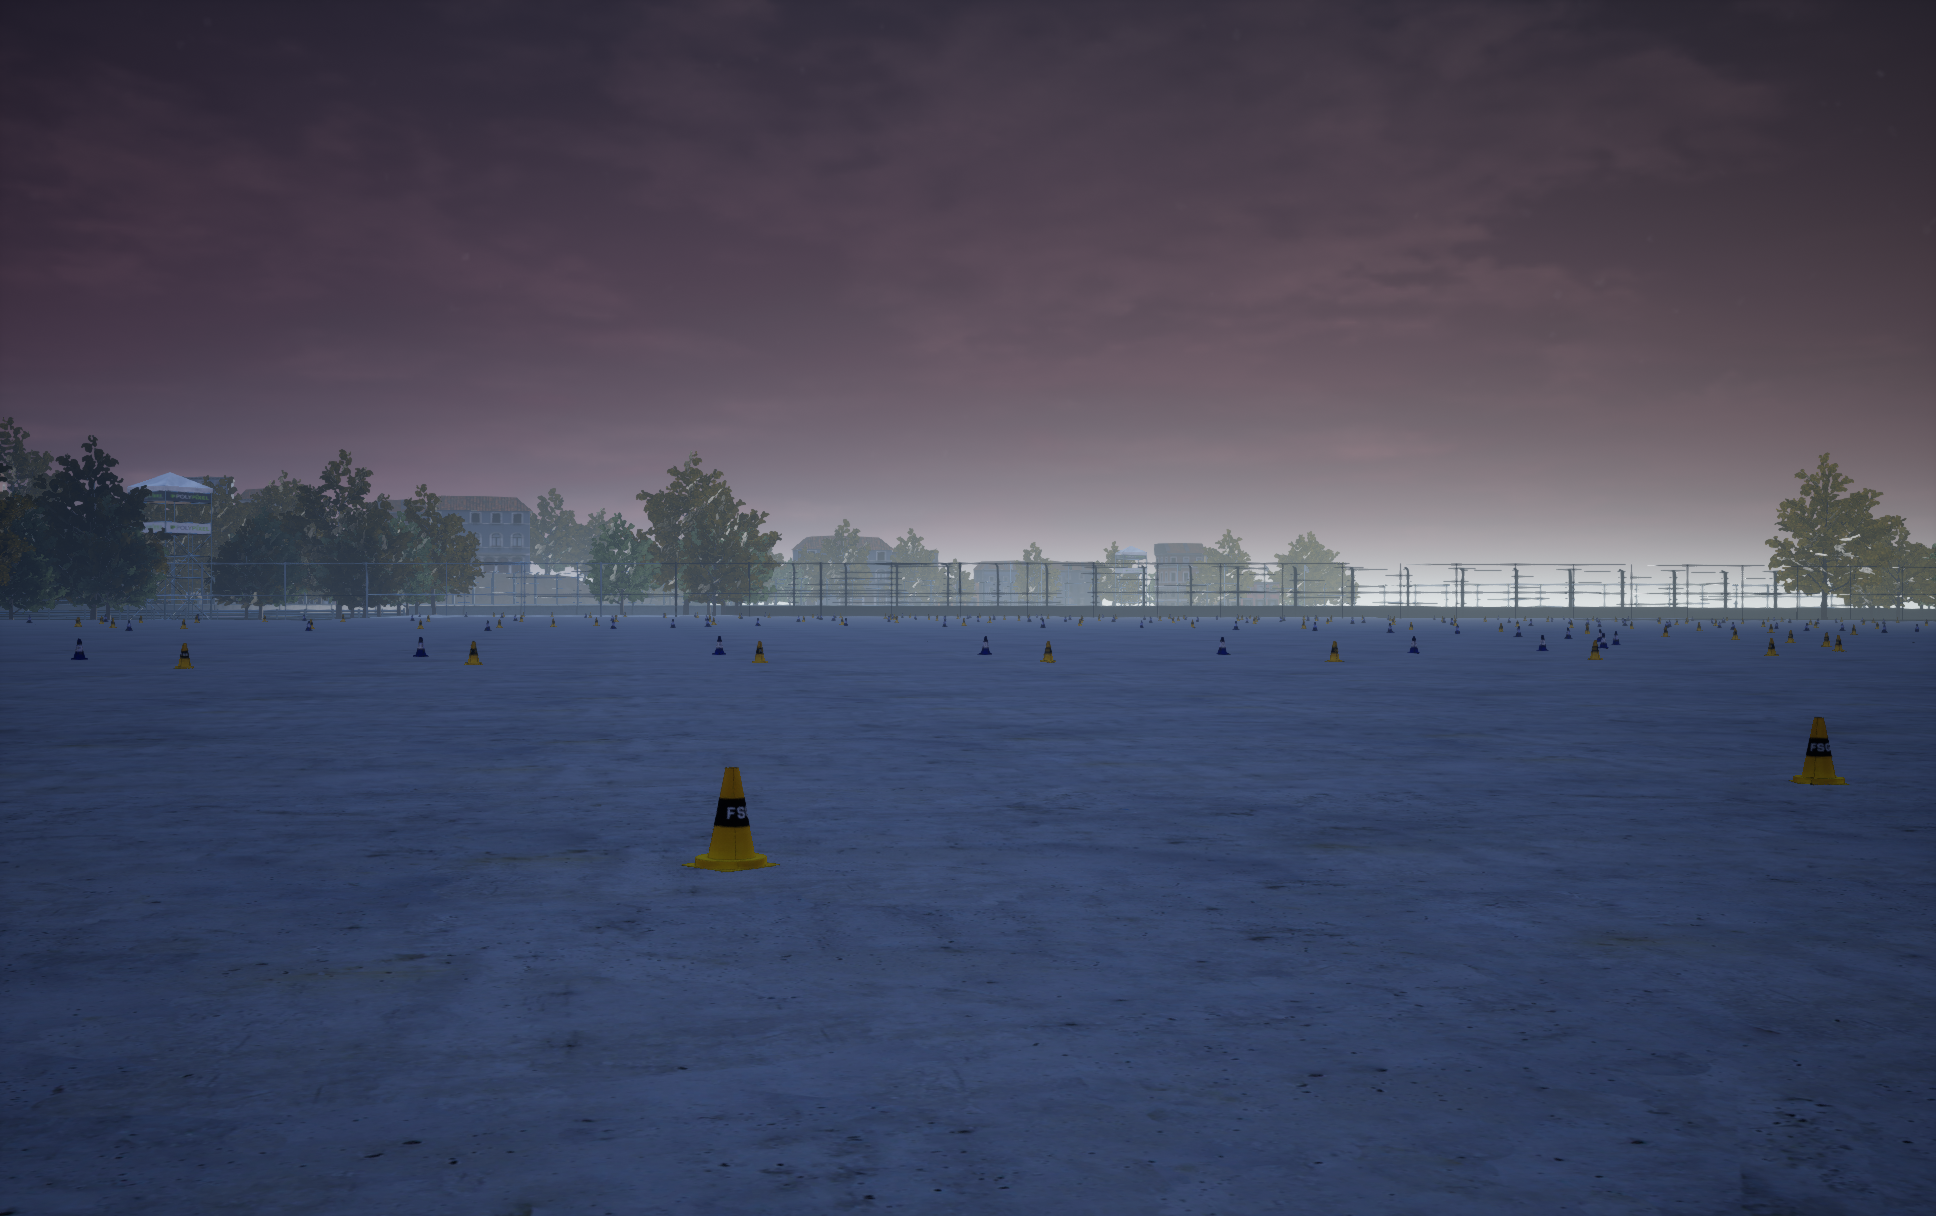blue: (681, 766, 779, 871), (1788, 717, 1849, 785), (172, 643, 193, 668), (464, 642, 482, 664), (1324, 642, 1343, 661), (752, 642, 768, 663), (1039, 642, 1055, 663), (1587, 640, 1603, 658)
yellow: (71, 637, 87, 658), (413, 637, 429, 656), (712, 636, 726, 654), (976, 636, 990, 654), (1216, 637, 1230, 654)
